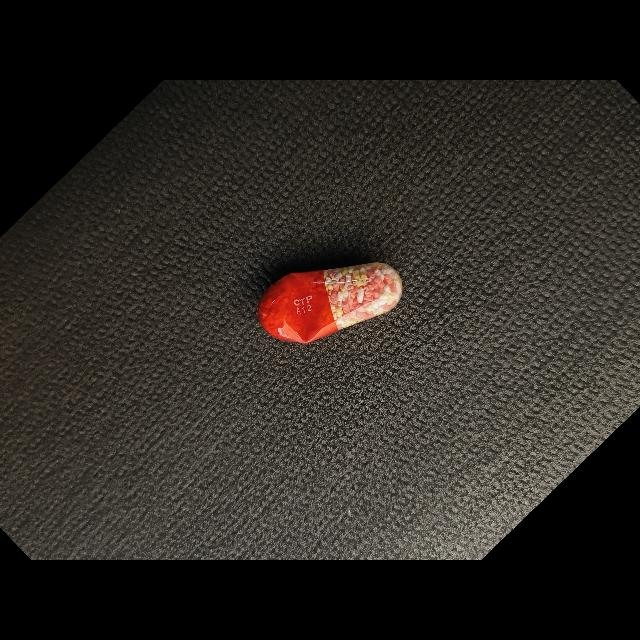Defective Capsule: (258, 262, 403, 343)
